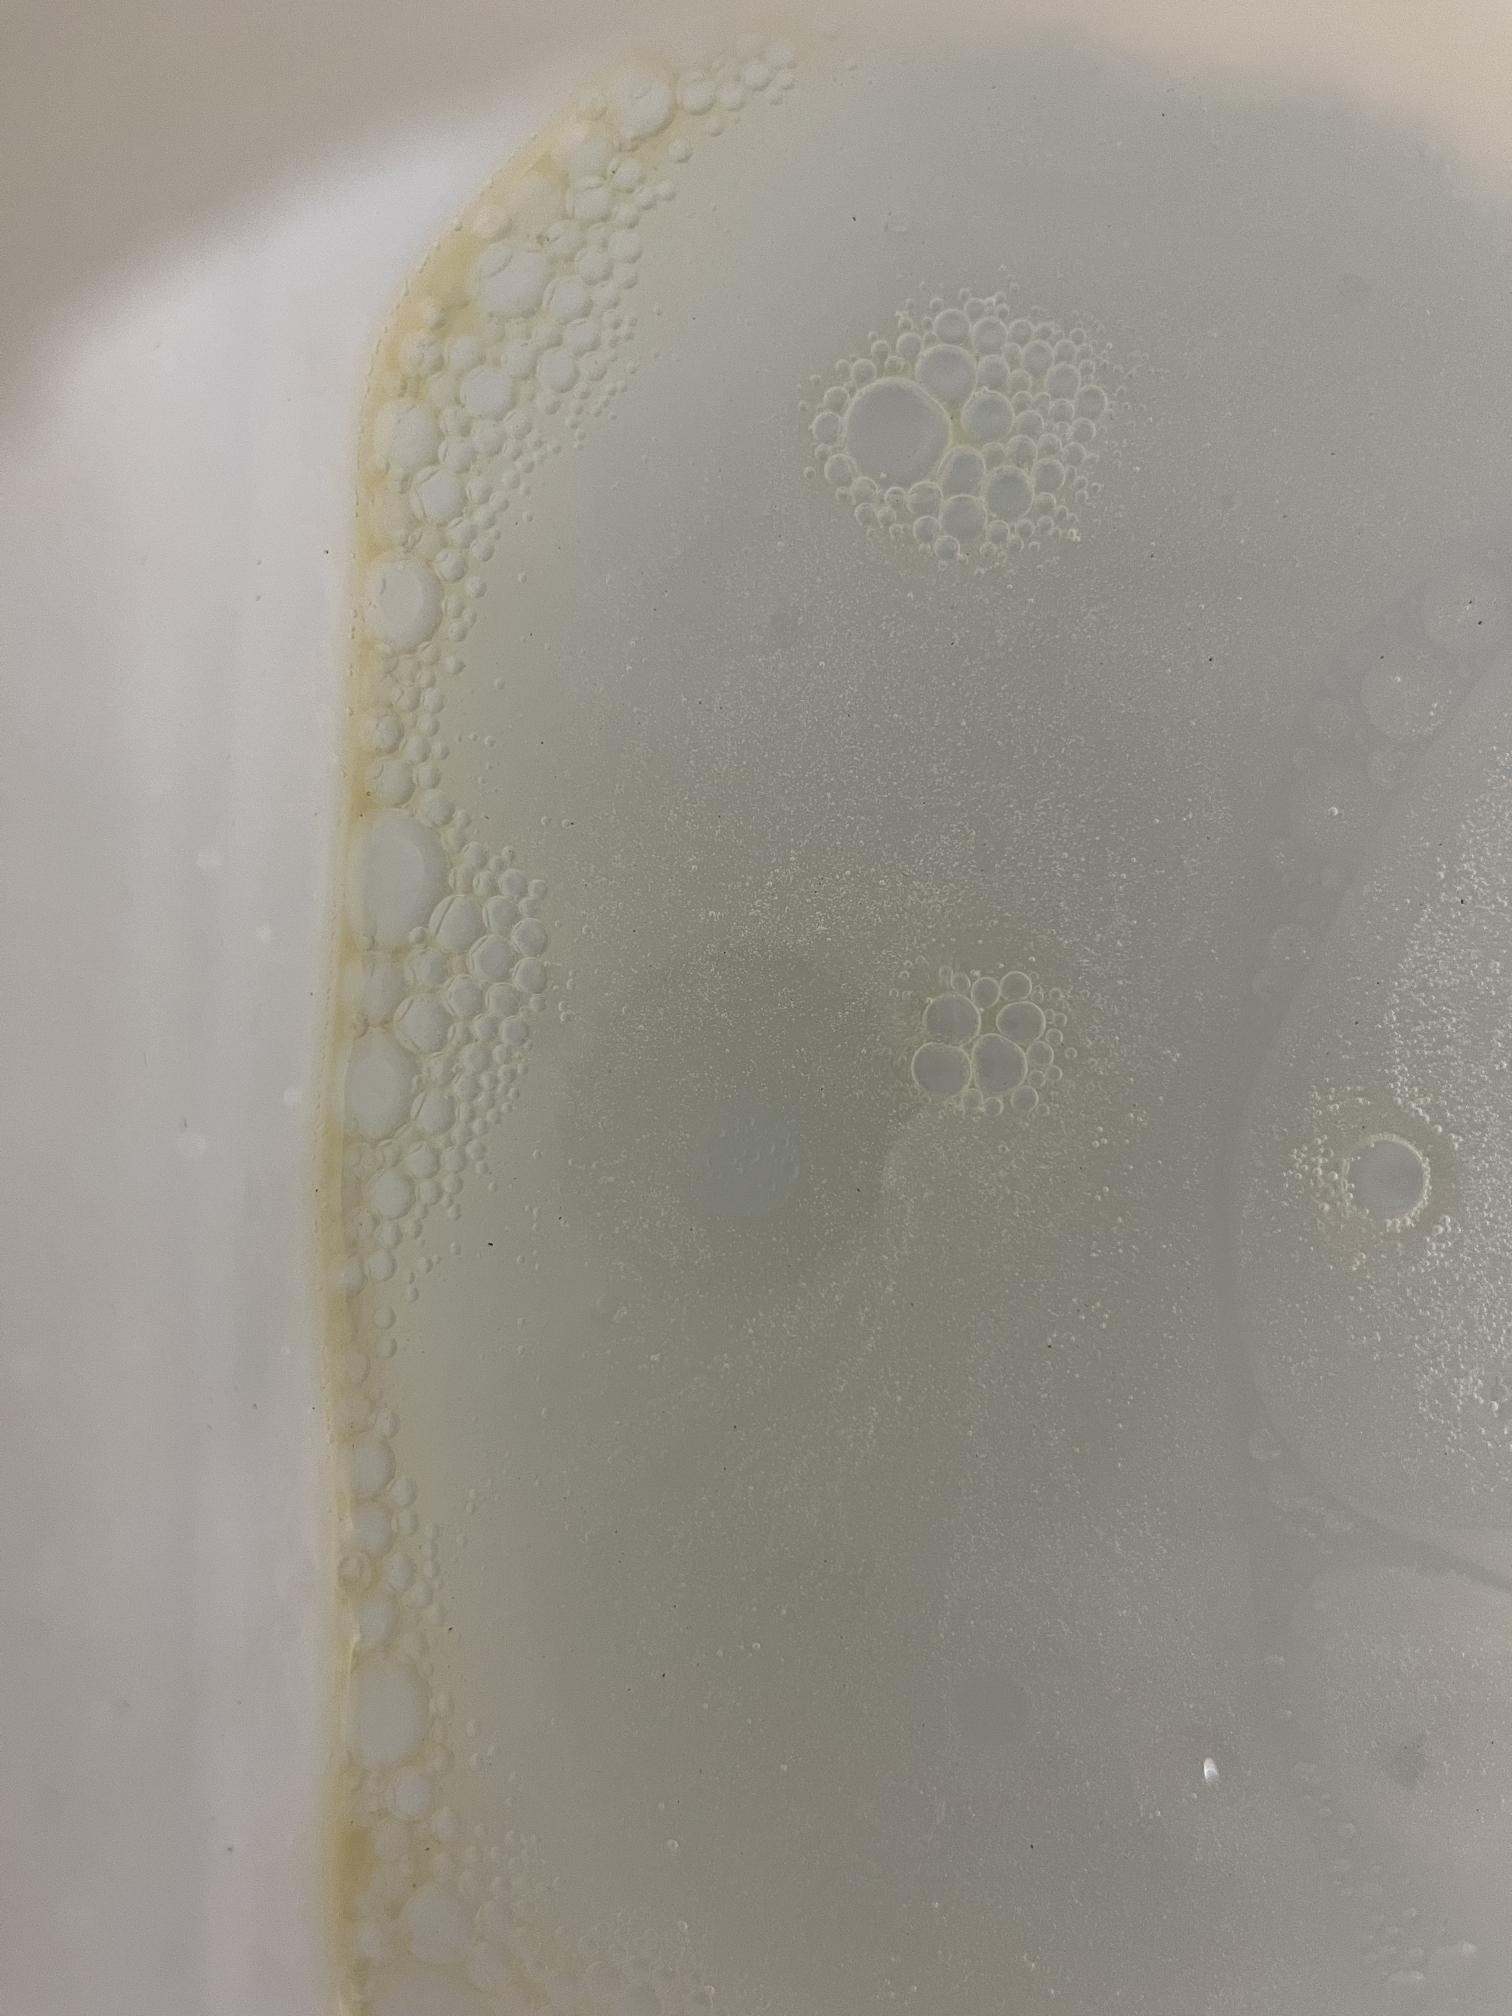Presenca de Oleo - - 50ml: (100, 65, 1441, 1884)
